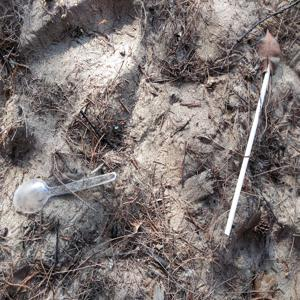plastic: (220, 56, 274, 242), (19, 165, 136, 203)
